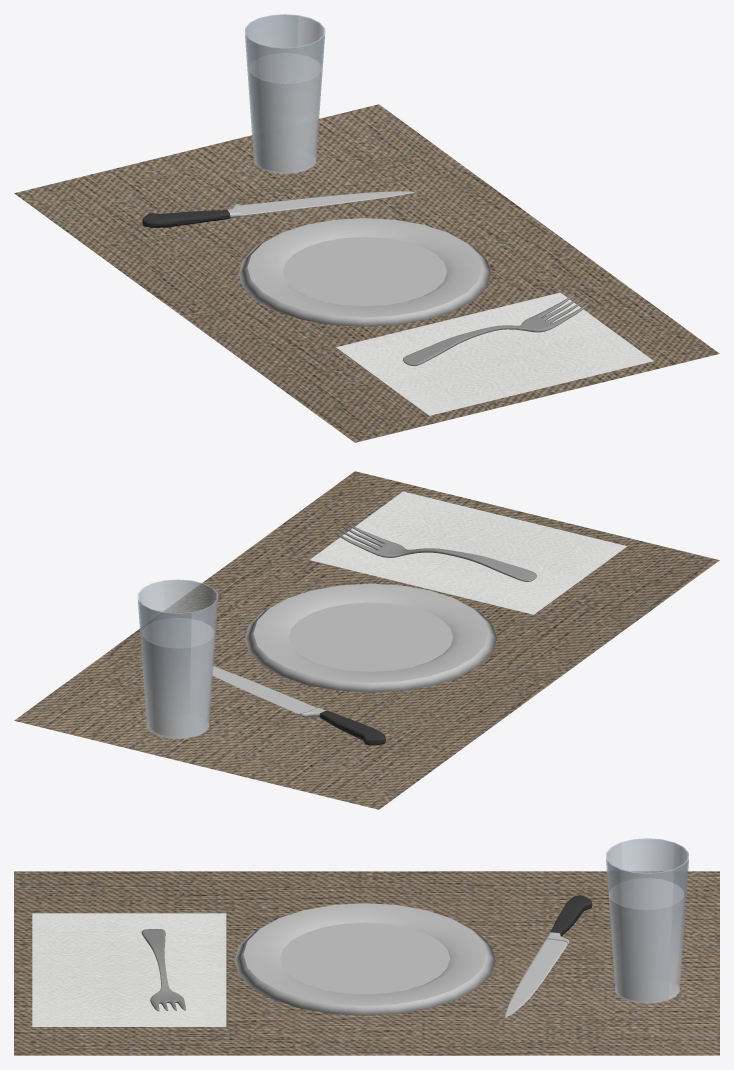
Rendered from low-poly-tableware-7e3aeb.glb.
3 renders of one model, top to bottom at view 1: azimuth 30°, elevation 25°; view 2: azimuth 150°, elevation 25°; view 3: azimuth 270°, elevation 25°, orthographic. The views are drawn at different scales.
Parts seen in each view (by area): view 1: PropMesh; view 2: PropMesh; view 3: PropMesh.
Part boxes in pixels (x1,y1,x2,y2): PropMesh: [14, 14, 719, 442]; PropMesh: [14, 471, 719, 809]; PropMesh: [14, 838, 719, 1055].
Bounding box in the file's own units: 0.382 × 0.13 × 0.618.
9 materials, 3 textured.
